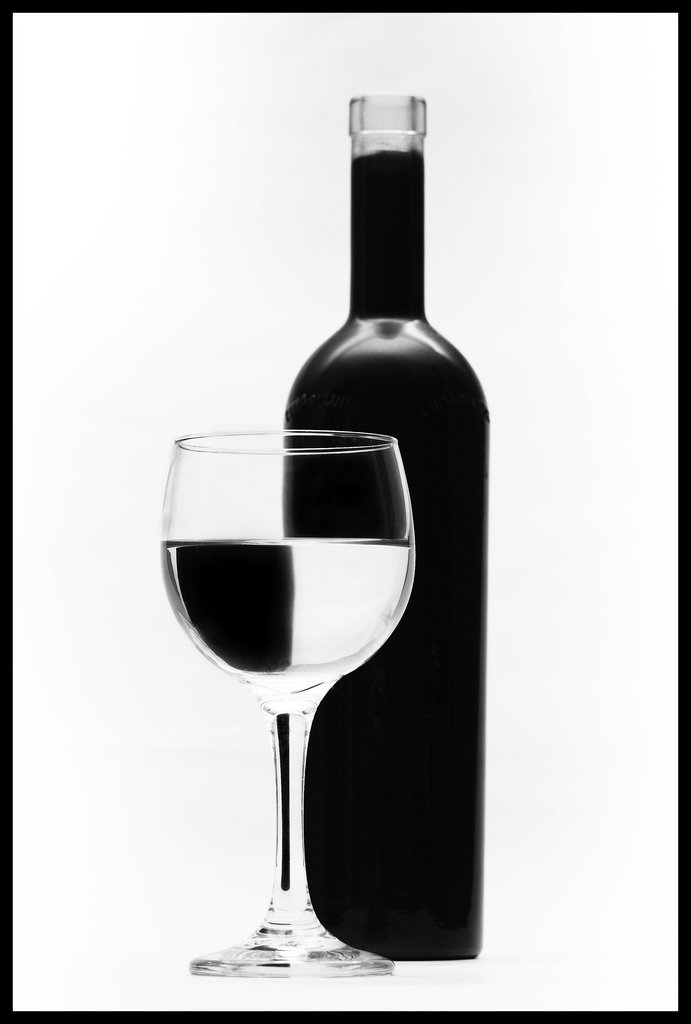glass of water: (158, 428, 406, 982)
